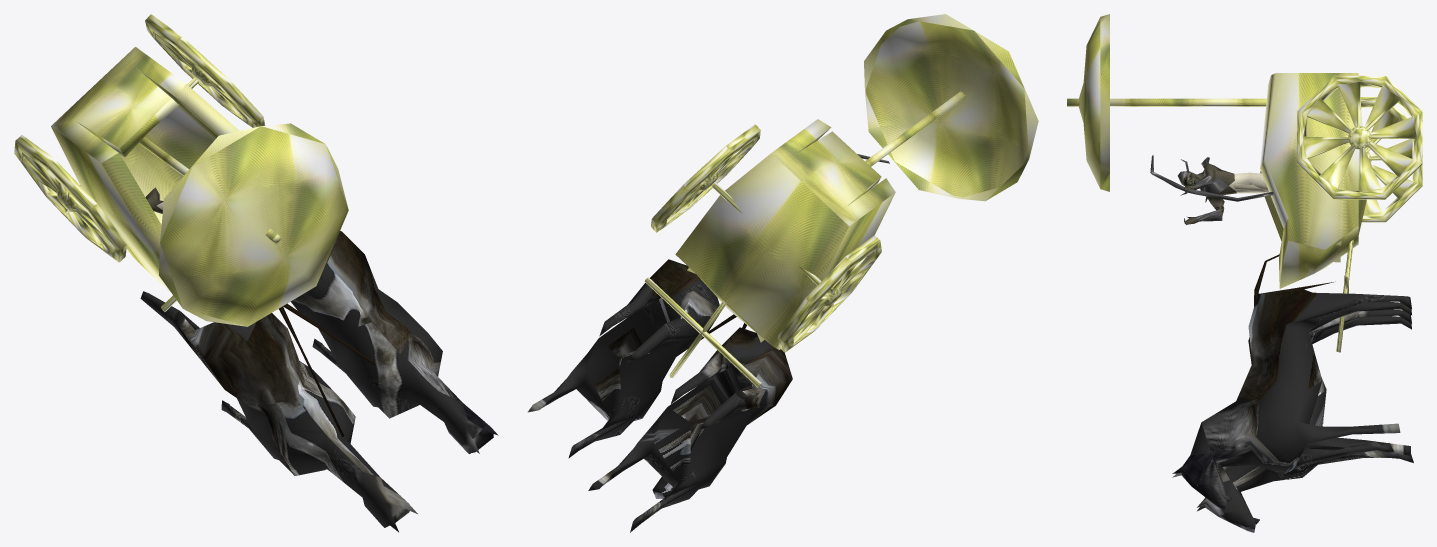
Rendered from chariot_000202.obj.
The picture shows the model from 3 angles, left to right: view 1: azimuth 30°, elevation 25°; view 2: azimuth 150°, elevation 25°; view 3: azimuth 270°, elevation 25°; orthographic projection. The views are drawn at different scales.
Visible parts, largest first — view 1: umbrella_Sphere, chariot_Cube.001, Horse.000_objHorse_0.001, Horse.001_objHorse_0.002, wheelR_Cylinder, wheelL_Cylinder.003, Cylinder_Cylinder.001; view 2: chariot_Cube.001, umbrella_Sphere, Horse.000_objHorse_0.001, Horse.001_objHorse_0.002, wheelR_Cylinder, wheelL_Cylinder.003, rod_Cylinder.002; view 3: Horse.001_objHorse_0.002, chariot_Cube.001, wheelL_Cylinder.003, Horse.000_objHorse_0.001, umbrella_Sphere, A4_Circle, wheelR_Cylinder, rod_Cylinder.002.
Part boxes in pixels (<box>): umbrella_Sphere: <box>139,123,348,326</box>; chariot_Cube.001: <box>51,47,239,292</box>; Horse.000_objHorse_0.001: <box>140,291,417,532</box>; Horse.001_objHorse_0.002: <box>291,231,498,453</box>; wheelR_Cylinder: <box>14,135,126,262</box>; wheelL_Cylinder.003: <box>145,14,265,127</box>; Cylinder_Cylinder.001: <box>279,303,375,437</box>; chariot_Cube.001: <box>675,119,895,349</box>; umbrella_Sphere: <box>864,14,1038,201</box>; Horse.000_objHorse_0.001: <box>588,327,792,532</box>; Horse.001_objHorse_0.002: <box>527,259,719,458</box>; wheelR_Cylinder: <box>778,235,881,352</box>; wheelL_Cylinder.003: <box>651,124,760,232</box>; rod_Cylinder.002: <box>644,182,821,387</box>; Horse.001_objHorse_0.002: <box>1172,281,1411,509</box>; chariot_Cube.001: <box>1260,73,1366,288</box>; wheelL_Cylinder.003: <box>1297,75,1422,199</box>; Horse.000_objHorse_0.001: <box>1197,309,1413,532</box>; umbrella_Sphere: <box>1067,14,1266,191</box>; A4_Circle: <box>1150,155,1273,224</box>; wheelR_Cylinder: <box>1360,97,1422,222</box>; rod_Cylinder.002: <box>1336,239,1353,352</box>.
Size of the model in its own units: 6.7 by 8.26 by 6.33.
